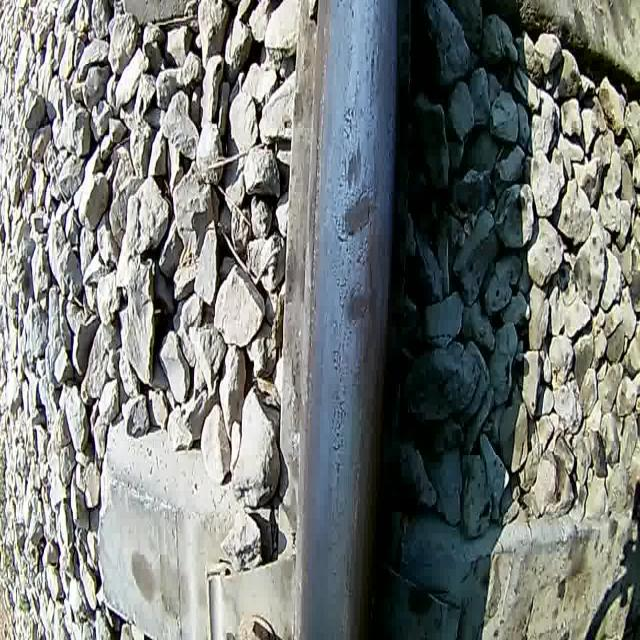Squats: (338, 187, 382, 242), (340, 276, 381, 335), (341, 136, 367, 191)
